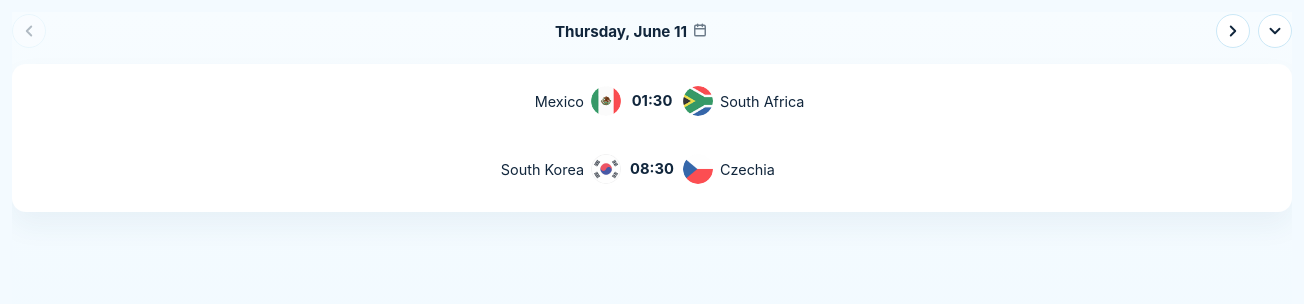
Test: filters fixtures to the participant team
This screenshot has width=1304, height=304.
What coordinates should you click on to do the following:
click the button named "Filter options"
I would click on:
 (1275, 31)
Its box is [1258,14,1292,48].
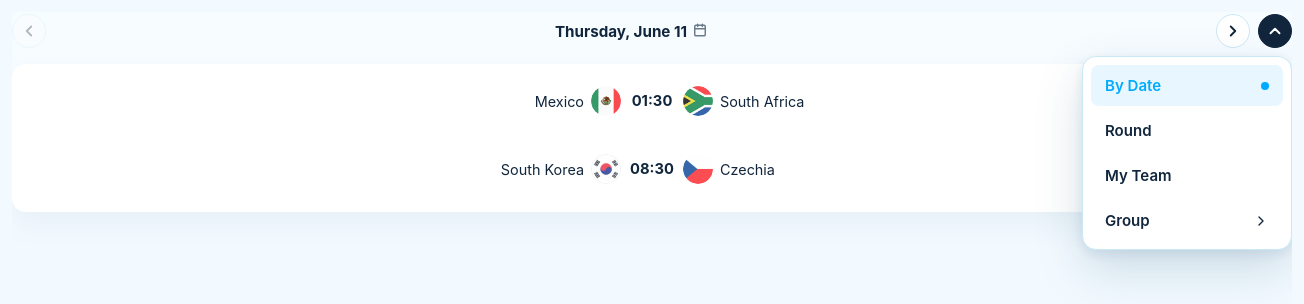
What coordinates should you click on to do the following:
click the menu item "My Team"
I would click on:
 (1187, 176)
Its box is [1091,155,1283,196].
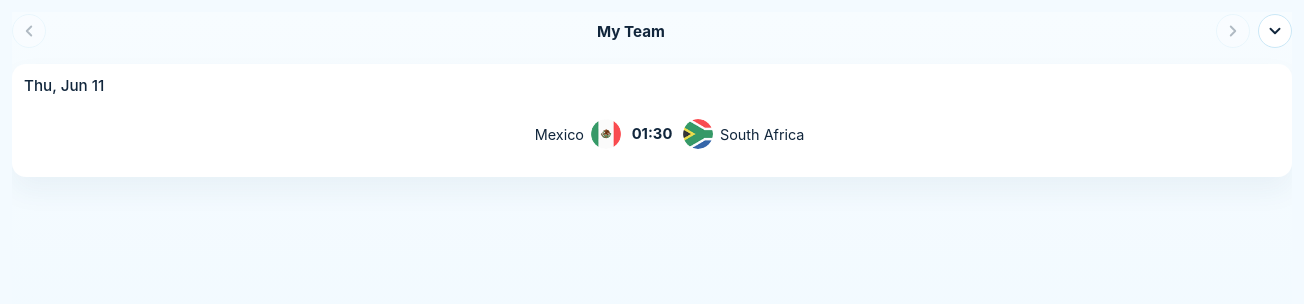
Expected: the text "Mexico" is shown, [535,126,584,142]
Expected: the text "My Team" is shown, [597,22,665,40]
